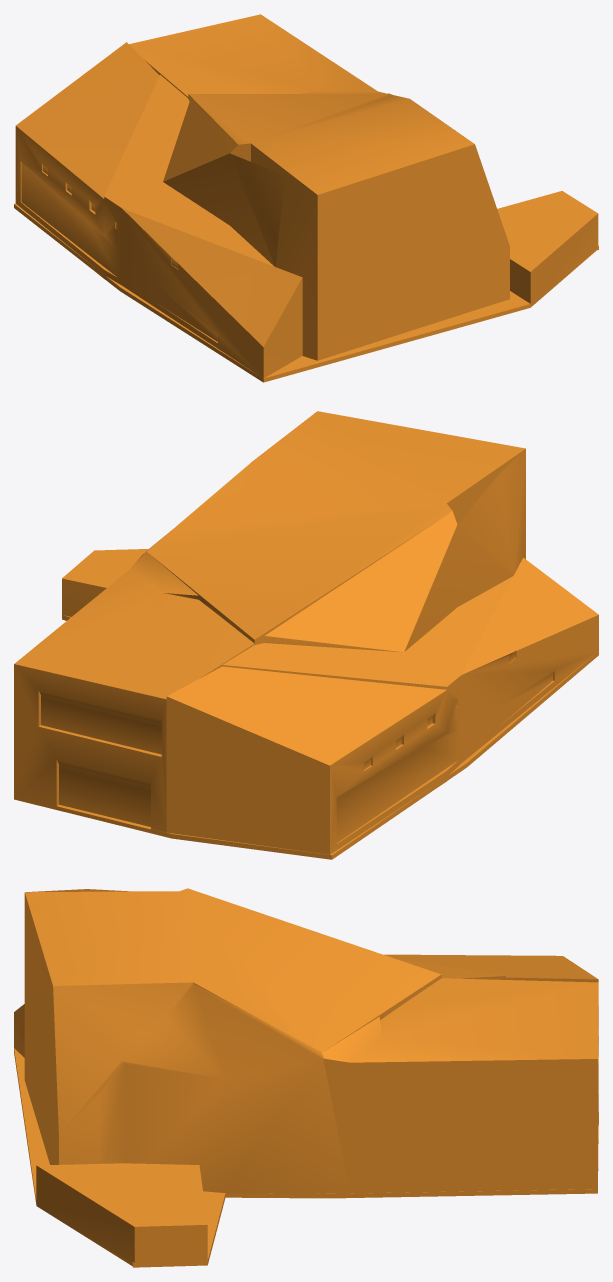
Rendered from agora-lelystad.glb.
3 views of the same model, one above another, from view 1: azimuth 30°, elevation 25°; view 2: azimuth 150°, elevation 25°; view 3: azimuth 270°, elevation 25° (orthographic). The views are drawn at different scales.
Visible parts, largest first — view 1: building:agoratheater; view 2: building:agoratheater; view 3: building:agoratheater.
Boxes of the visible parts, left/top/right/bottom form: building:agoratheater: left=14, top=14, right=598, bottom=382; building:agoratheater: left=14, top=411, right=598, bottom=859; building:agoratheater: left=14, top=888, right=598, bottom=1267.
Size of the model in its own units: 63.4 by 25.85 by 70.33.
